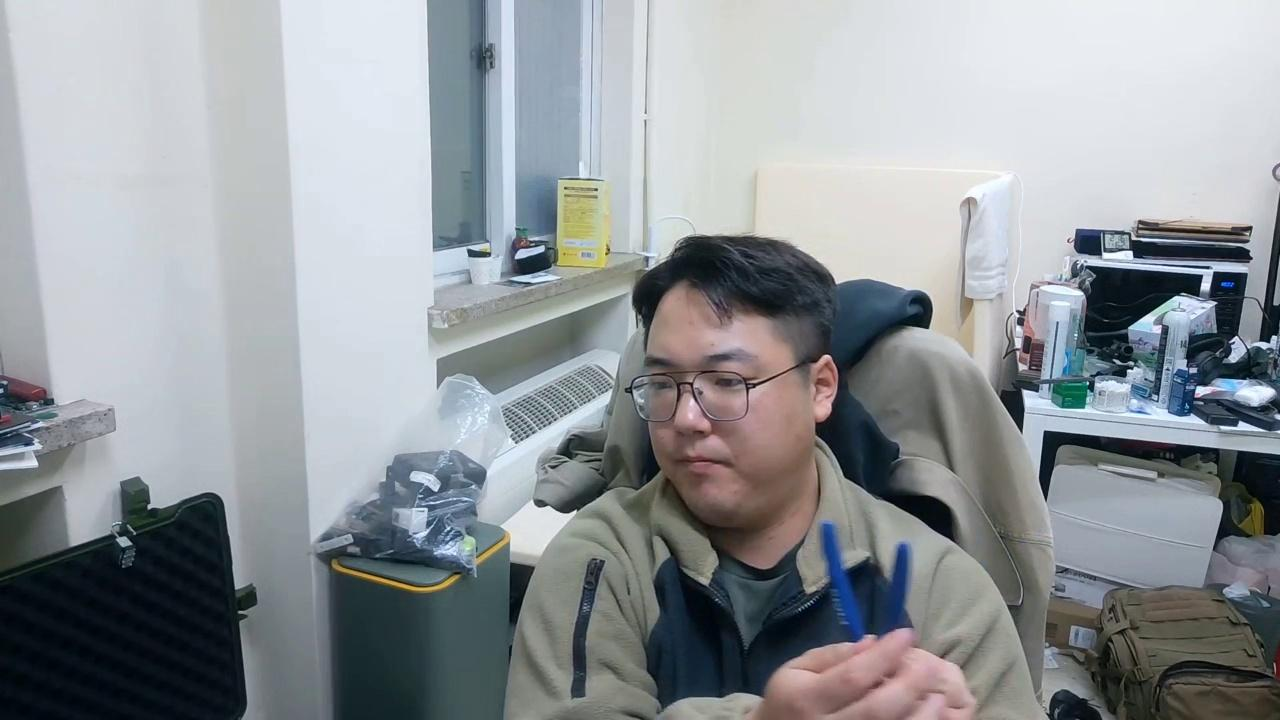blue_pliers: (819, 519, 916, 644)
